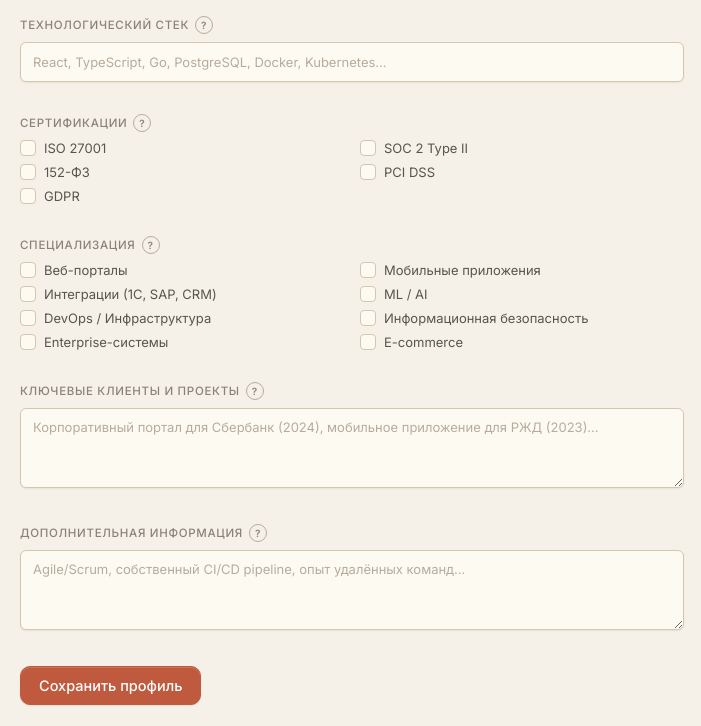
Test: CompanyProfile (RU) › shows saved confirmation
The image size is (701, 726).
(page scrolled)
Click the button "Сохранить профиль" at {"x": 111, "y": 686}, box [20, 666, 201, 705]
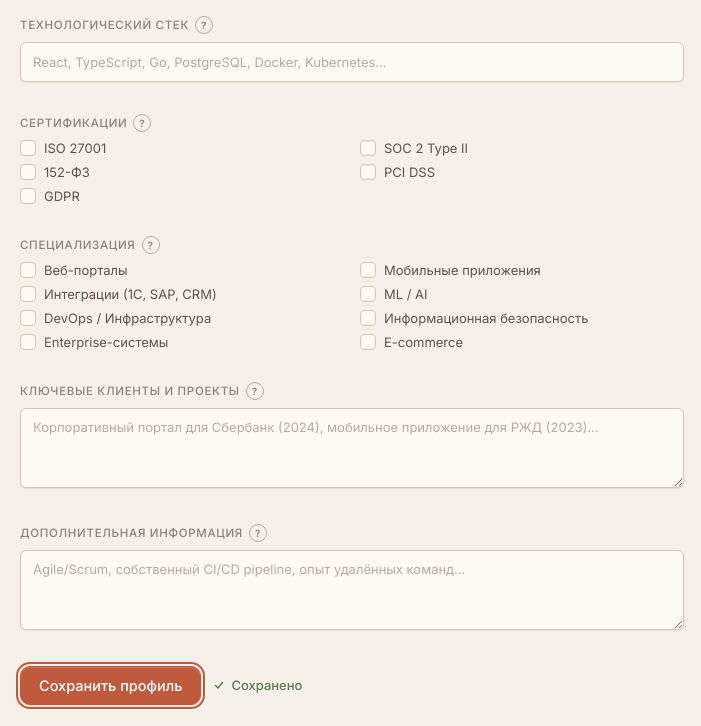
Expected: the text "Сохранено" is shown, [213, 676, 302, 695]
